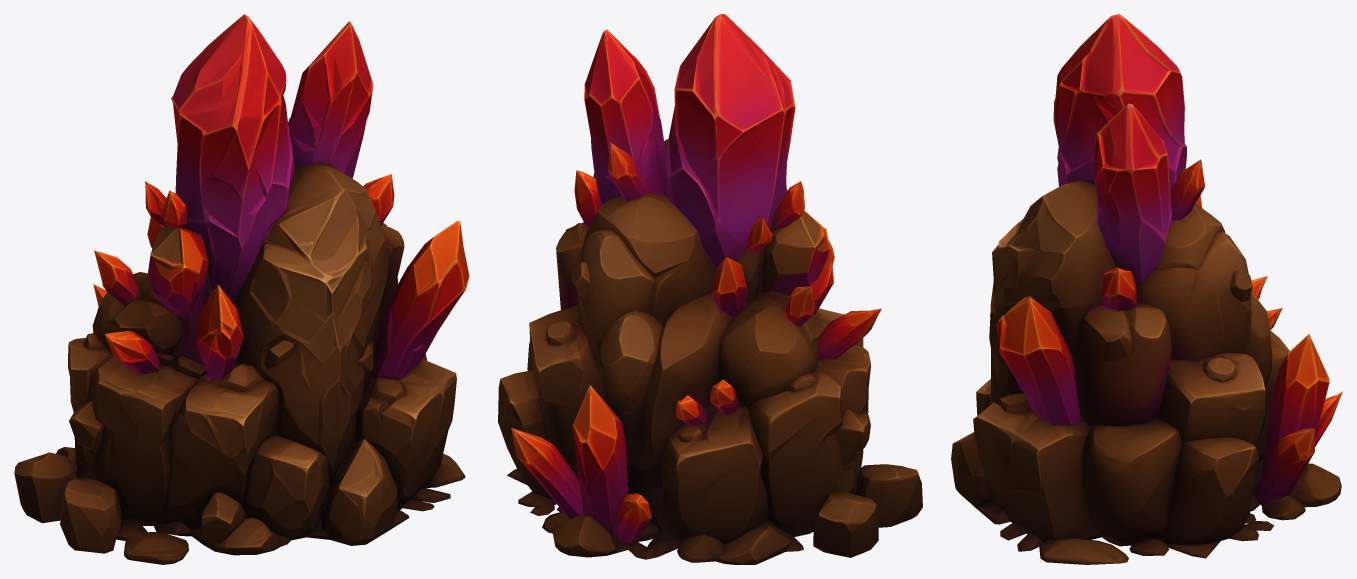
The model's file is SM_Ore18.fbx.
The picture shows the model from 3 angles, left to right: view 1: azimuth 30°, elevation 25°; view 2: azimuth 150°, elevation 25°; view 3: azimuth 270°, elevation 25°; orthographic projection. The views are drawn at different scales.
Parts seen in each view (by area): view 1: Ore18; view 2: Ore18; view 3: Ore18.
Part boxes in pixels (x1,y1,x2,y2): Ore18: (14,14,469,564); Ore18: (498,14,922,564); Ore18: (951,14,1342,564).
Size of the model in its own units: 109 by 132 by 101.
Materials: 1 (1 with a texture image).
